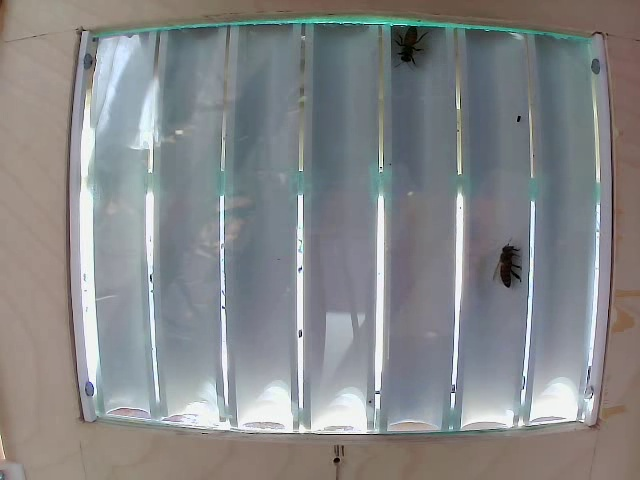bee: (486, 232, 530, 290), (398, 24, 431, 76)
